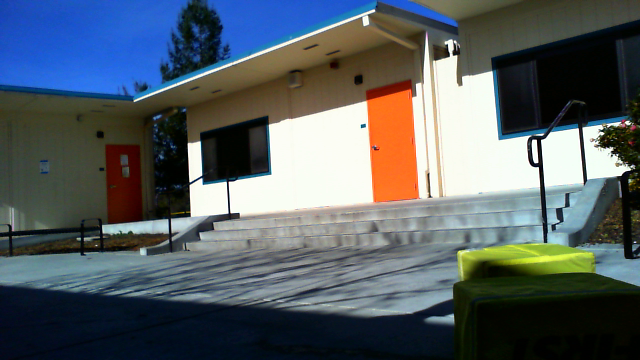cube: (449, 271, 640, 360), (459, 242, 597, 357)
